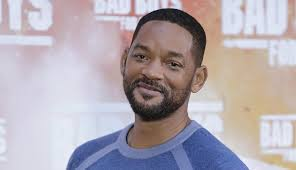black_male: (117, 22, 210, 146)
